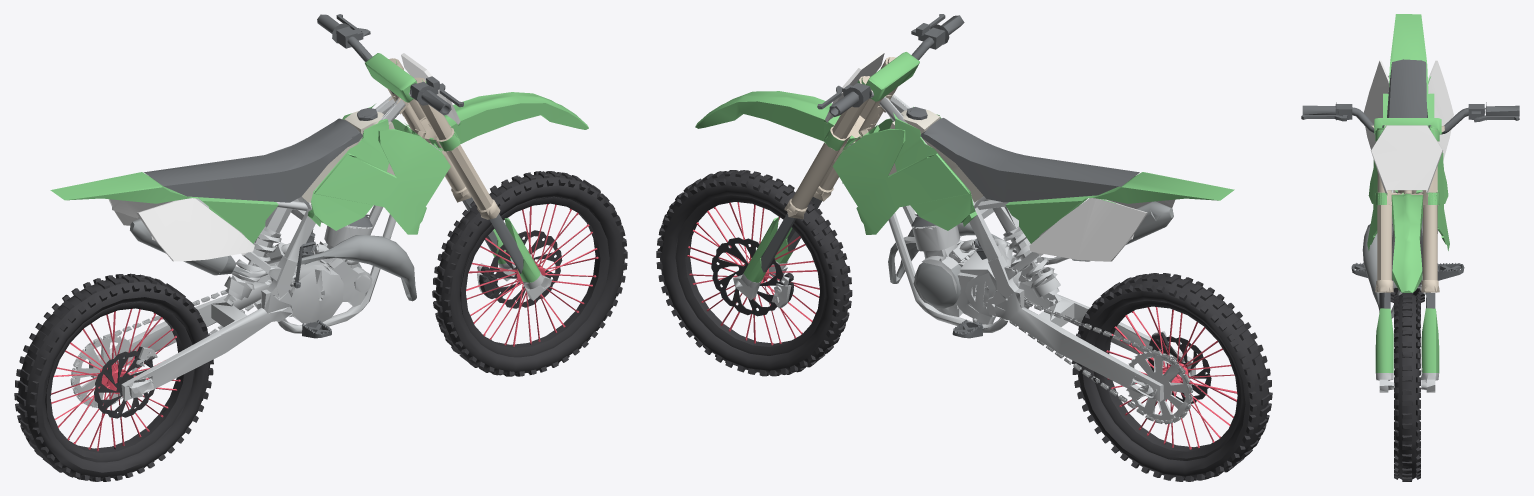
Rendered from kx_dirt_bike.glb.
3 renders of one model, left to right at view 1: azimuth 30°, elevation 25°; view 2: azimuth 150°, elevation 25°; view 3: azimuth 270°, elevation 25°, orthographic. The views are drawn at different scales.
Visible parts, largest first — view 1: body, wheel_rear, wheel_front, front_end, swingarm, fork_lowers; view 2: body, wheel_rear, wheel_front, front_end, swingarm, fork_lowers; view 3: front_end, body, wheel_front, fork_lowers.
Boxes of the visible parts, x1,y1,x2,y2 form: body: [50, 95, 484, 406]; wheel_rear: [14, 273, 213, 481]; wheel_front: [432, 171, 627, 376]; front_end: [317, 14, 588, 214]; swingarm: [89, 276, 292, 401]; fork_lowers: [452, 192, 551, 300]; body: [771, 95, 1234, 424]; wheel_rear: [1072, 273, 1272, 481]; wheel_front: [656, 170, 852, 376]; front_end: [695, 14, 964, 213]; swingarm: [994, 275, 1195, 408]; fork_lowers: [733, 191, 831, 300]; front_end: [1301, 102, 1519, 292]; body: [1351, 14, 1464, 381]; wheel_front: [1394, 292, 1420, 481]; fork_lowers: [1375, 285, 1439, 392].
Size of the model in its own units: 2.16 by 1.21 by 0.77.
